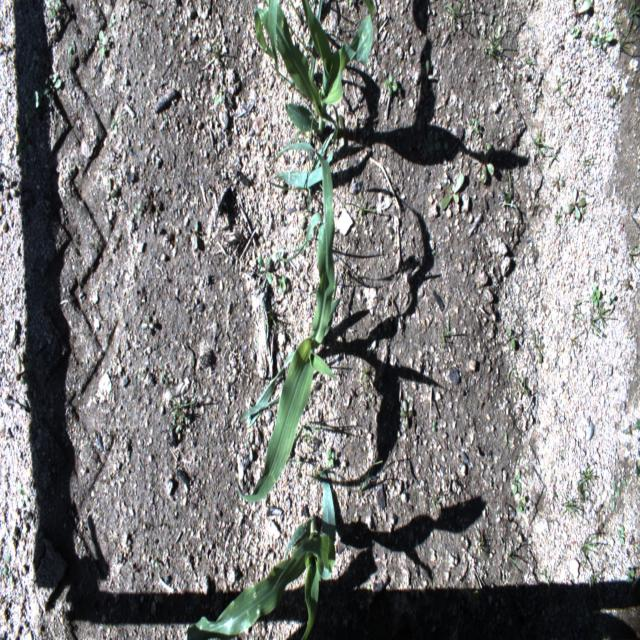crop: (236, 142, 344, 501), (182, 466, 336, 640), (252, 0, 375, 187)
weed: (270, 62, 317, 170), (160, 360, 197, 437), (341, 186, 380, 237), (579, 531, 606, 588), (268, 180, 312, 214), (481, 12, 504, 63), (358, 459, 383, 499), (470, 143, 495, 182), (440, 172, 465, 210), (203, 27, 224, 71), (293, 419, 324, 447), (498, 169, 516, 211), (533, 126, 556, 158), (565, 185, 586, 220), (508, 367, 532, 397), (552, 74, 573, 107), (14, 126, 34, 159), (42, 72, 62, 105), (287, 458, 307, 491), (560, 497, 584, 524), (328, 275, 338, 338), (443, 0, 464, 30), (590, 25, 614, 50), (569, 0, 592, 26), (577, 464, 596, 494), (16, 353, 34, 384), (476, 524, 491, 560), (507, 540, 520, 581), (618, 26, 638, 51), (338, 114, 350, 155), (288, 24, 306, 50), (440, 313, 452, 351), (257, 256, 272, 286), (537, 567, 555, 592), (302, 469, 321, 492), (421, 59, 434, 92), (287, 0, 304, 25), (592, 570, 604, 604), (16, 478, 29, 509), (399, 400, 413, 428), (598, 301, 612, 329), (432, 492, 445, 522), (534, 329, 545, 364), (608, 480, 620, 512), (26, 90, 39, 119), (588, 307, 601, 336), (264, 310, 282, 330), (426, 130, 441, 154), (362, 363, 370, 407), (246, 430, 257, 462), (96, 30, 108, 57), (628, 1, 640, 27), (105, 179, 116, 207), (3, 177, 15, 201), (606, 86, 619, 108), (569, 329, 580, 355), (576, 481, 587, 506), (551, 172, 565, 191), (384, 76, 397, 96), (512, 470, 522, 495), (581, 152, 596, 168), (628, 244, 640, 264), (615, 0, 622, 34), (47, 1, 60, 19), (590, 286, 601, 307), (140, 315, 154, 331), (274, 248, 284, 270), (2, 552, 11, 576), (574, 297, 586, 315), (468, 590, 481, 606), (326, 444, 335, 467), (592, 21, 601, 44), (506, 326, 515, 349), (277, 274, 287, 294), (595, 505, 605, 521), (624, 423, 638, 434), (595, 522, 604, 539), (193, 221, 198, 250), (470, 118, 479, 134), (554, 206, 562, 224), (626, 568, 634, 586), (570, 26, 580, 40), (518, 496, 526, 513), (584, 32, 593, 47), (618, 526, 625, 545), (572, 312, 584, 323), (606, 292, 616, 305), (623, 279, 633, 292), (108, 12, 116, 28), (68, 39, 76, 55), (133, 202, 141, 218), (215, 88, 222, 105), (176, 420, 184, 434), (0, 46, 10, 56), (525, 55, 535, 65), (150, 556, 158, 568), (431, 417, 436, 433), (620, 473, 626, 486), (137, 368, 143, 380), (635, 418, 640, 431), (504, 431, 508, 447), (185, 416, 190, 425)
